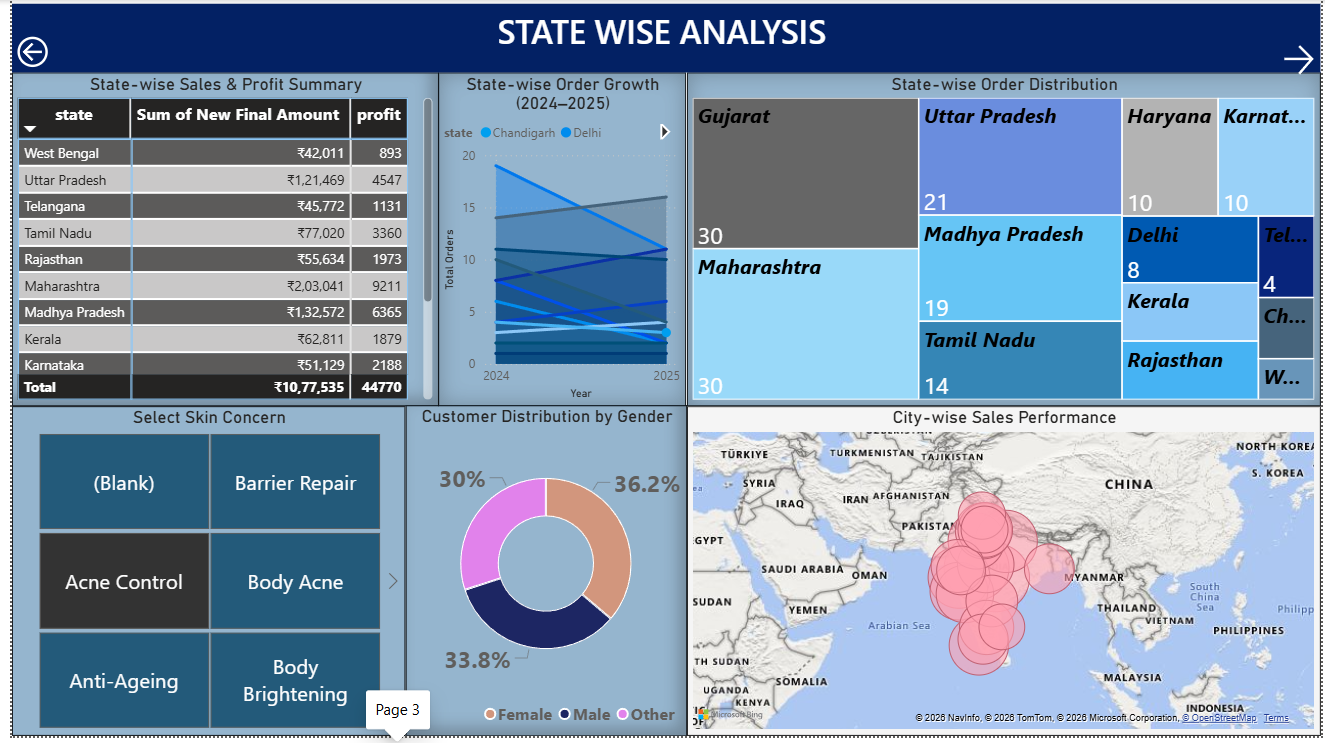

The dashboard page shown, as its layout file describes it:
{"tool":"powerbi","page":{"name":"Page 3","canvas":[1280,720],"ordinal":2},"visuals":[{"type":"treemap","title":"State-wise Order Distribution","fields":{"Group":["Customers.state"],"Values":["Order_Items.Total Orders"]},"box":[660,71.2,620,326.2],"z":0},{"type":"donutChart","title":"Customer Distribution by Gender","fields":{"Category":["Customers.gender"],"Y":["Count(Customers.customer_id)"]},"box":[385,396.2,275,323.8],"z":1000},{"type":"map","title":"City-wise Sales Performance","fields":{"Category":["Customers.city"],"Size":["Sum(Orders.New Final Amount )"]},"box":[660,397.5,620,322.5],"z":2000},{"type":"pivotTable","title":"State-wise Sales & Profit Summary","fields":{"Rows":["Customers.state"],"Values":["Sum(Orders.New Final Amount )","Products.profit"]},"box":[0,71.2,417.5,326.2],"z":3000},{"type":"areaChart","title":"State-wise Order Growth (2024–2025)","fields":{"Y":["Order_Items.Total Orders"],"Series":["Customers.state"],"Category":["Orders.order_date.Variation.Date Hierarchy.Year","Orders.order_date.Variation.Date Hierarchy.Quarter"]},"box":[417.5,71.2,242.5,326.2],"z":4000},{"type":"slicer","title":"Select Skin Concern","fields":{"Values":["Products.concern"]},"box":[0,397.5,385,322.5],"z":5000},{"type":"textbox","box":[0,3.8,1280,67.5],"z":6000},{"type":"actionButton","box":[0,30.6,100.3,40.4],"z":7000},{"type":"actionButton","box":[1239.3,39,40.4,39],"z":7001}]}

Visuals, with their boxes in screenshot pixels (x1, y1, x2, y2), scaled from the page's 1280x720 canvas onto the 1325x743 screenshot:
"State-wise Order Distribution" treemap: locate(683, 73, 1324, 410)
"Customer Distribution by Gender" donutChart: locate(399, 409, 683, 742)
"City-wise Sales Performance" map: locate(683, 410, 1324, 742)
"State-wise Sales & Profit Summary" pivotTable: locate(0, 73, 432, 410)
"State-wise Order Growth (2024–2025)" areaChart: locate(432, 73, 683, 410)
"Select Skin Concern" slicer: locate(0, 410, 399, 742)
textbox: locate(0, 4, 1324, 74)
actionButton: locate(0, 32, 104, 73)
actionButton: locate(1283, 40, 1324, 80)
